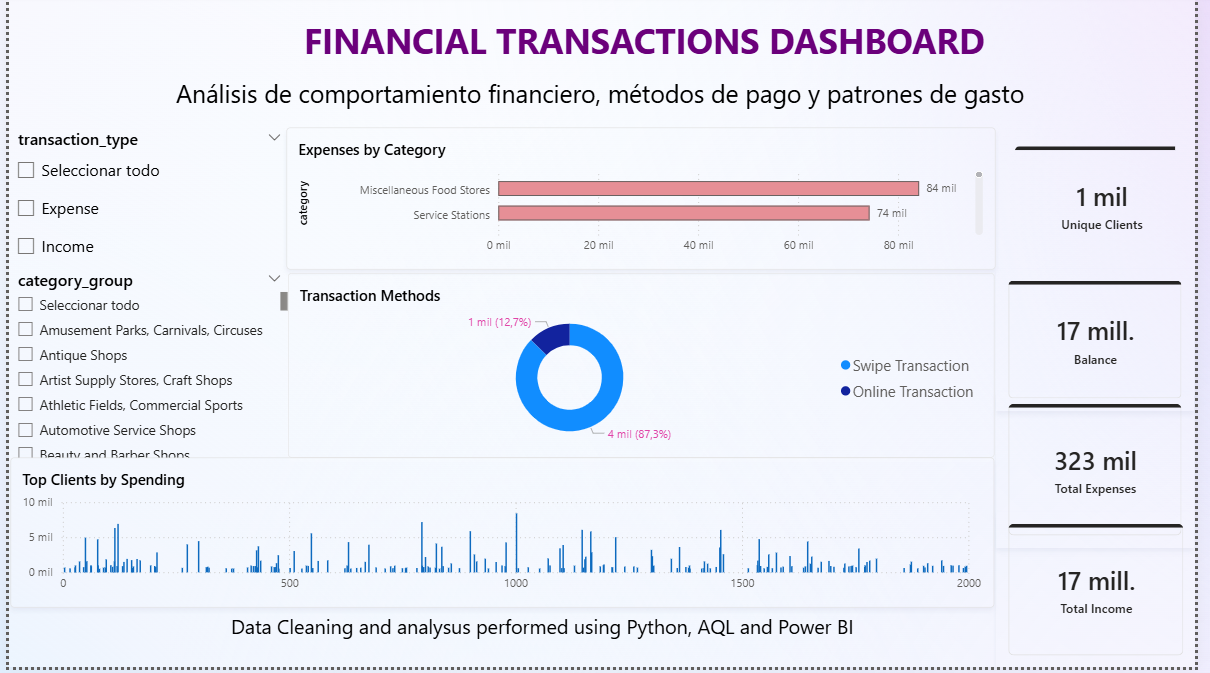

The page's visual inventory and layout, read from the dashboard file:
{"tool":"powerbi","page":{"name":"DASHBOARD","canvas":[1280,720],"ordinal":0},"visuals":[{"type":"textbox","box":[208.9,13,953.7,64.8],"z":3},{"type":"textbox","box":[0,77.7,1232.2,59.9],"z":4},{"type":"cardVisual","fields":{"Data":["transactions_clean.Total Expenses"]},"box":[1065.5,422.6,213.7,168.4],"z":5},{"type":"cardVisual","fields":{"Data":["transactions_clean.Total Income"]},"box":[1065.5,552.2,215.4,168.4],"z":6},{"type":"cardVisual","fields":{"Data":["transactions_clean.Balance"]},"box":[1065.5,289.8,213.7,153.8],"z":7},{"type":"cardVisual","fields":{"Data":["transactions_clean.Unique Clients"]},"box":[1065.5,137.6,213.7,153.8],"z":8},{"type":"slicer","fields":{"Values":["transactions_clean.transaction_type"]},"box":[1.6,137.6,299.6,153.8],"z":11},{"type":"slicer","fields":{"Values":["transactions_clean.category_group"]},"box":[1.6,289.8,299.6,204],"z":13},{"type":"clusteredBarChart","title":"Expenses by Category","fields":{"Y":["transactions_clean.Total Expenses"],"Category":["transactions_clean.category"]},"box":[300,138,765,153],"z":14},{"type":"donutChart","title":"Transaction Methods","fields":{"Category":["transactions_clean.use_chip"],"Y":["transactions_clean.Total Transactions"]},"box":[301.2,294.7,762.7,199.2],"z":15},{"type":"clusteredColumnChart","title":"Top Clients by Spending","fields":{"Category":["transactions_clean.client_id"],"Y":["transactions_clean.Client Spending"]},"box":[1.6,493.9,1062.2,161.9],"z":16},{"type":"textbox","box":[100.4,655.8,950.5,64.8],"z":17}]}

Visuals, with their boxes in screenshot pixels (x1, y1, x2, y2), scaled from the page's 1280x720 canvas onto the 1210x673 screenshot:
textbox: 197:12:1099:73
textbox: 0:73:1165:129
cardVisual - transactions_clean.Total Expenses: 1007:395:1209:552
cardVisual - transactions_clean.Total Income: 1007:516:1209:672
cardVisual - transactions_clean.Balance: 1007:271:1209:415
cardVisual - transactions_clean.Unique Clients: 1007:129:1209:272
slicer - transactions_clean.transaction_type: 2:129:285:272
slicer - transactions_clean.category_group: 2:271:285:462
"Expenses by Category" clusteredBarChart: 284:129:1007:272
"Transaction Methods" donutChart: 285:275:1006:462
"Top Clients by Spending" clusteredColumnChart: 2:462:1006:613
textbox: 95:613:993:672
